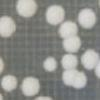white: (77, 7, 98, 30), (14, 0, 39, 18), (19, 77, 41, 97), (46, 5, 66, 26), (81, 48, 100, 70), (58, 20, 80, 37), (60, 36, 82, 53), (0, 15, 16, 38), (1, 74, 18, 94), (61, 69, 78, 88), (73, 71, 88, 90), (42, 57, 58, 73), (60, 55, 78, 69), (0, 56, 6, 76), (94, 63, 100, 82), (34, 95, 56, 100), (0, 92, 6, 100)
